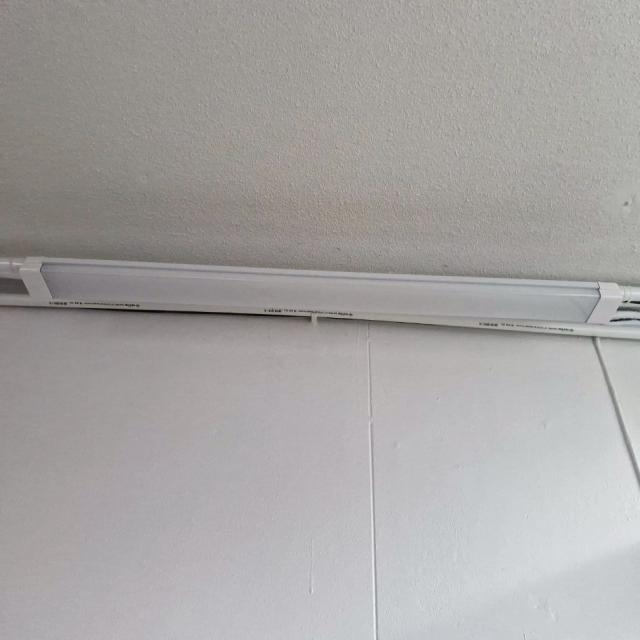bulb: (15, 237, 627, 346)
